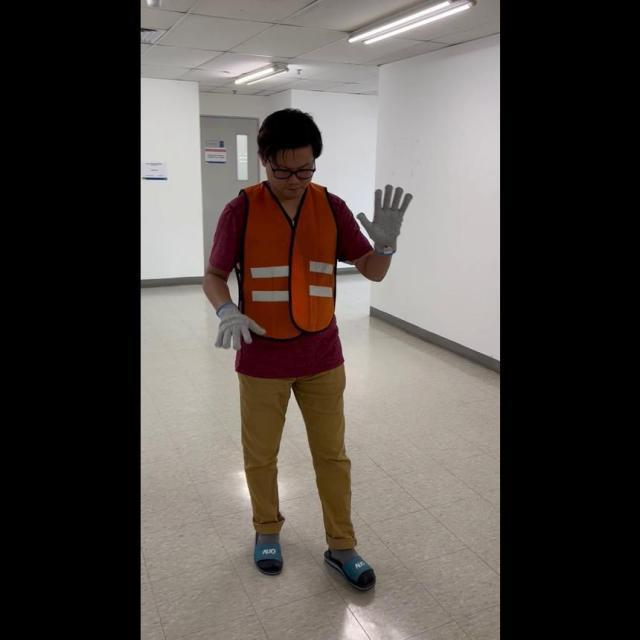gloved_hand: (356, 180, 412, 252), (211, 298, 266, 350)
